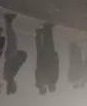person: (3, 13, 28, 96), (42, 24, 60, 93), (34, 28, 49, 95), (67, 41, 80, 90)
